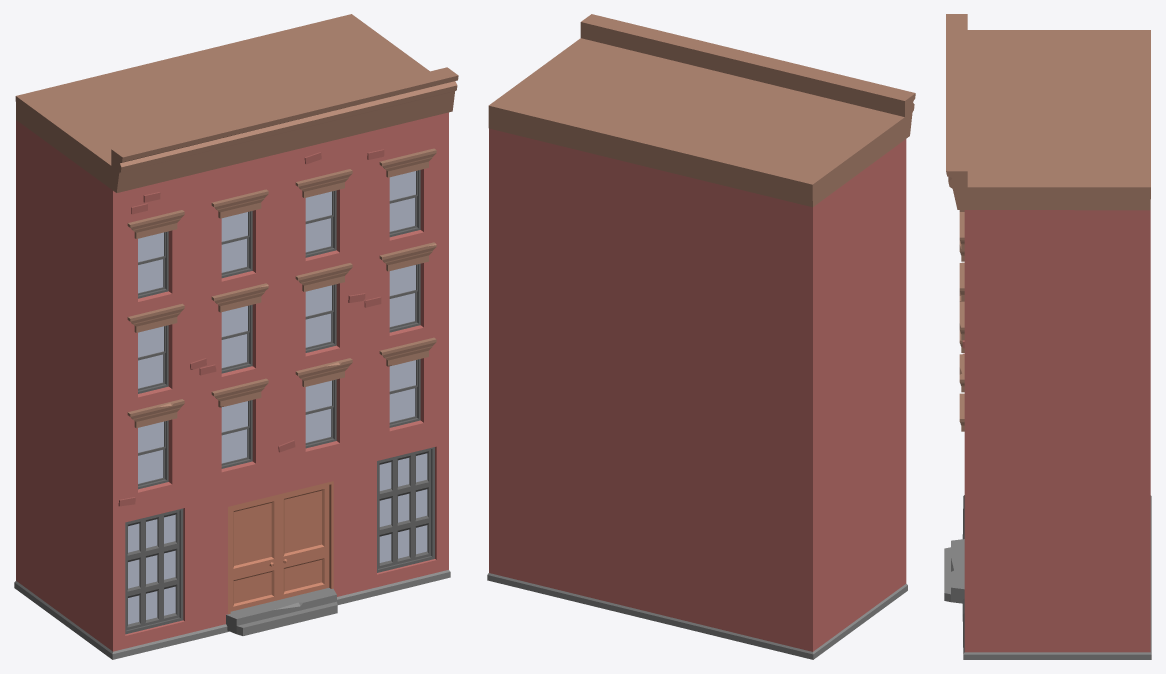
File: Building Red.glb
3 views of the same model, side by side, from view 1: azimuth 30°, elevation 25°; view 2: azimuth 150°, elevation 25°; view 3: azimuth 270°, elevation 25° (orthographic). The views are drawn at different scales.
Visible parts, largest first — view 1: BuildingRed1; view 2: BuildingRed1; view 3: BuildingRed1.
Part boxes in pixels (box(x1,y1,x2,y2)): BuildingRed1: box(14, 14, 458, 659); BuildingRed1: box(487, 14, 915, 659); BuildingRed1: box(944, 14, 1151, 659).
Bounding box in the file's own units: 2.42 × 3.48 × 1.34.
